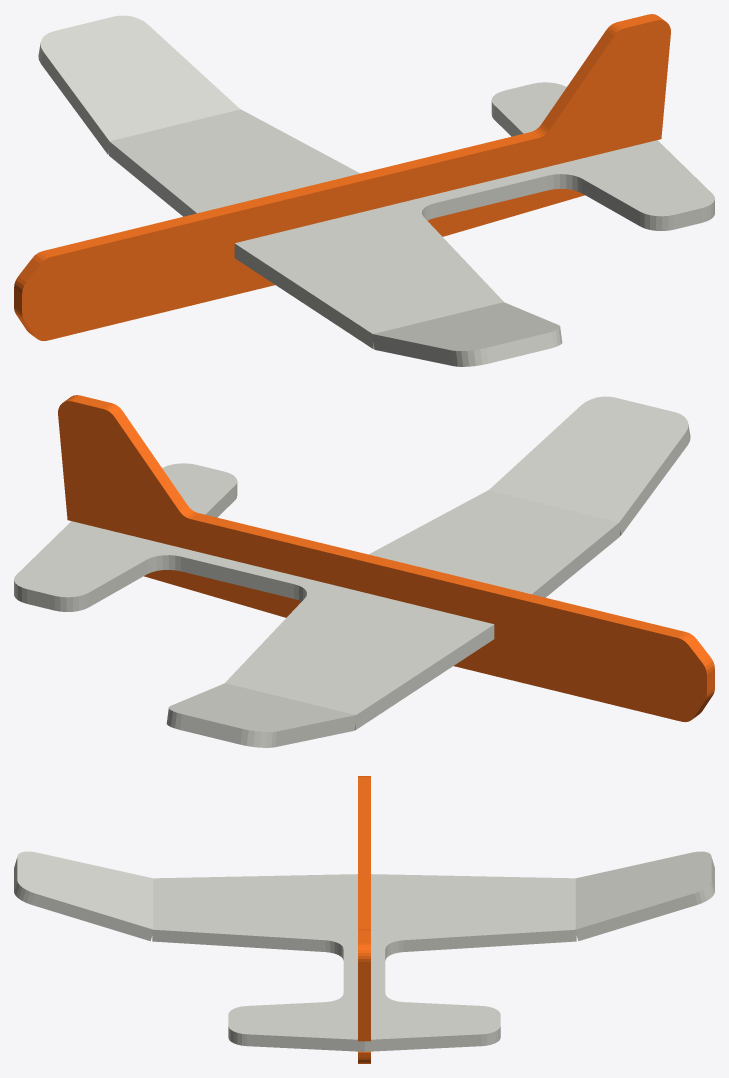
3 views of the same model, one above another, from view 1: azimuth 30°, elevation 25°; view 2: azimuth 150°, elevation 25°; view 3: azimuth 270°, elevation 25° (orthographic). The views are drawn at different scales.
Visible parts, largest first — view 1: H, V; view 2: H, V; view 3: H, V.
Part boxes in pixels (bbox=[...]): H: bbox=[38, 15, 714, 366]; V: bbox=[14, 14, 670, 341]; H: bbox=[14, 396, 690, 747]; V: bbox=[58, 395, 714, 722]; H: bbox=[14, 851, 714, 1051]; V: bbox=[358, 776, 370, 1063].
Size of the model in its own units: 0.2295 by 0.058 by 0.2676.
